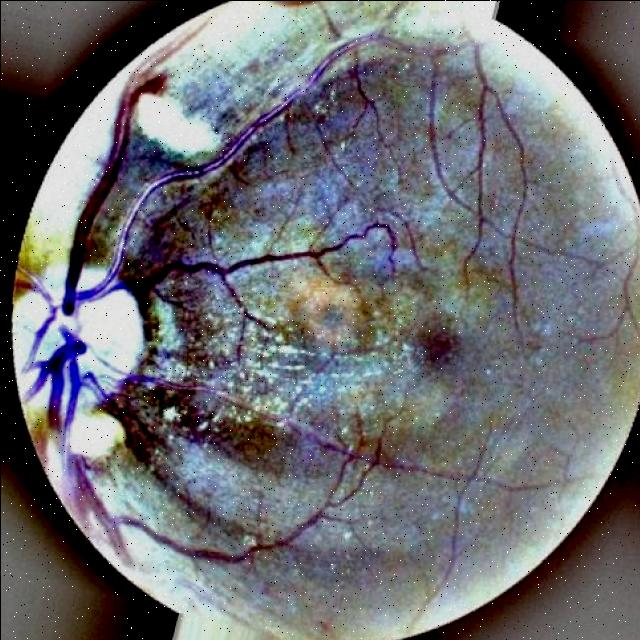Macula: (296, 268, 372, 358)
Nerves: (74, 27, 421, 334), (54, 344, 336, 569), (80, 373, 260, 542), (76, 224, 393, 319), (59, 72, 168, 332)
Optic Disk: (15, 251, 141, 415)
